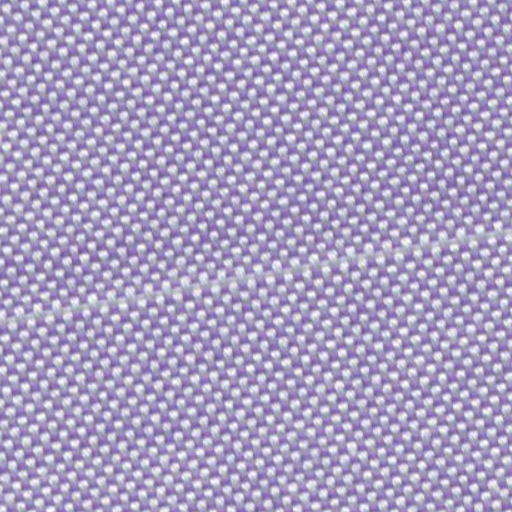TuoSha: (8, 214, 504, 335)
